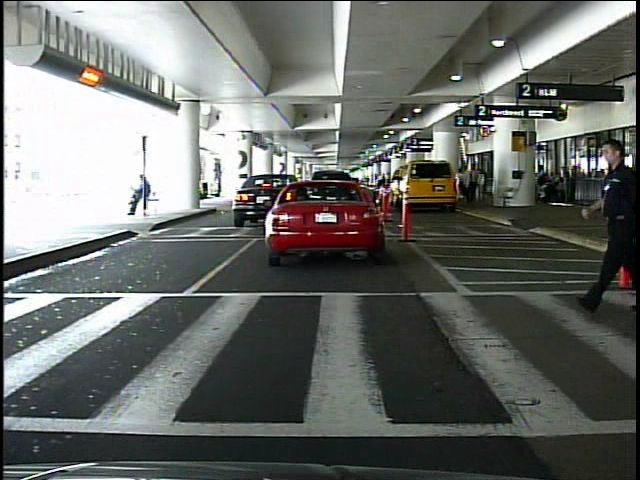person: (591, 136, 637, 315)
